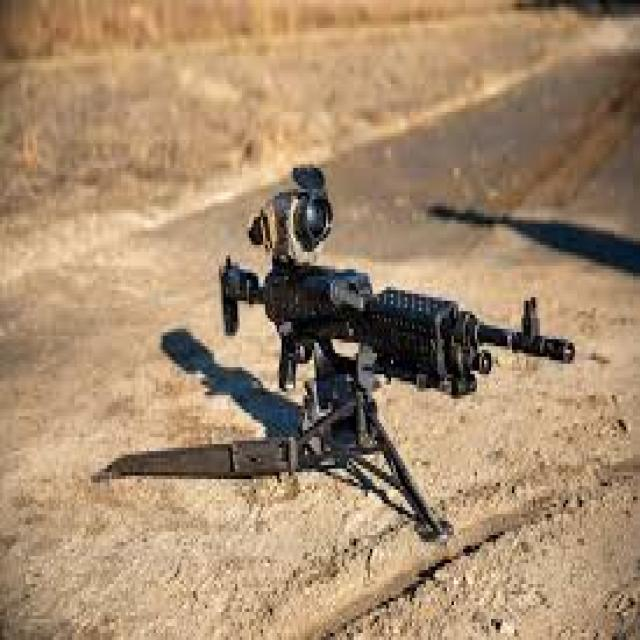Gun: (198, 147, 580, 512)
